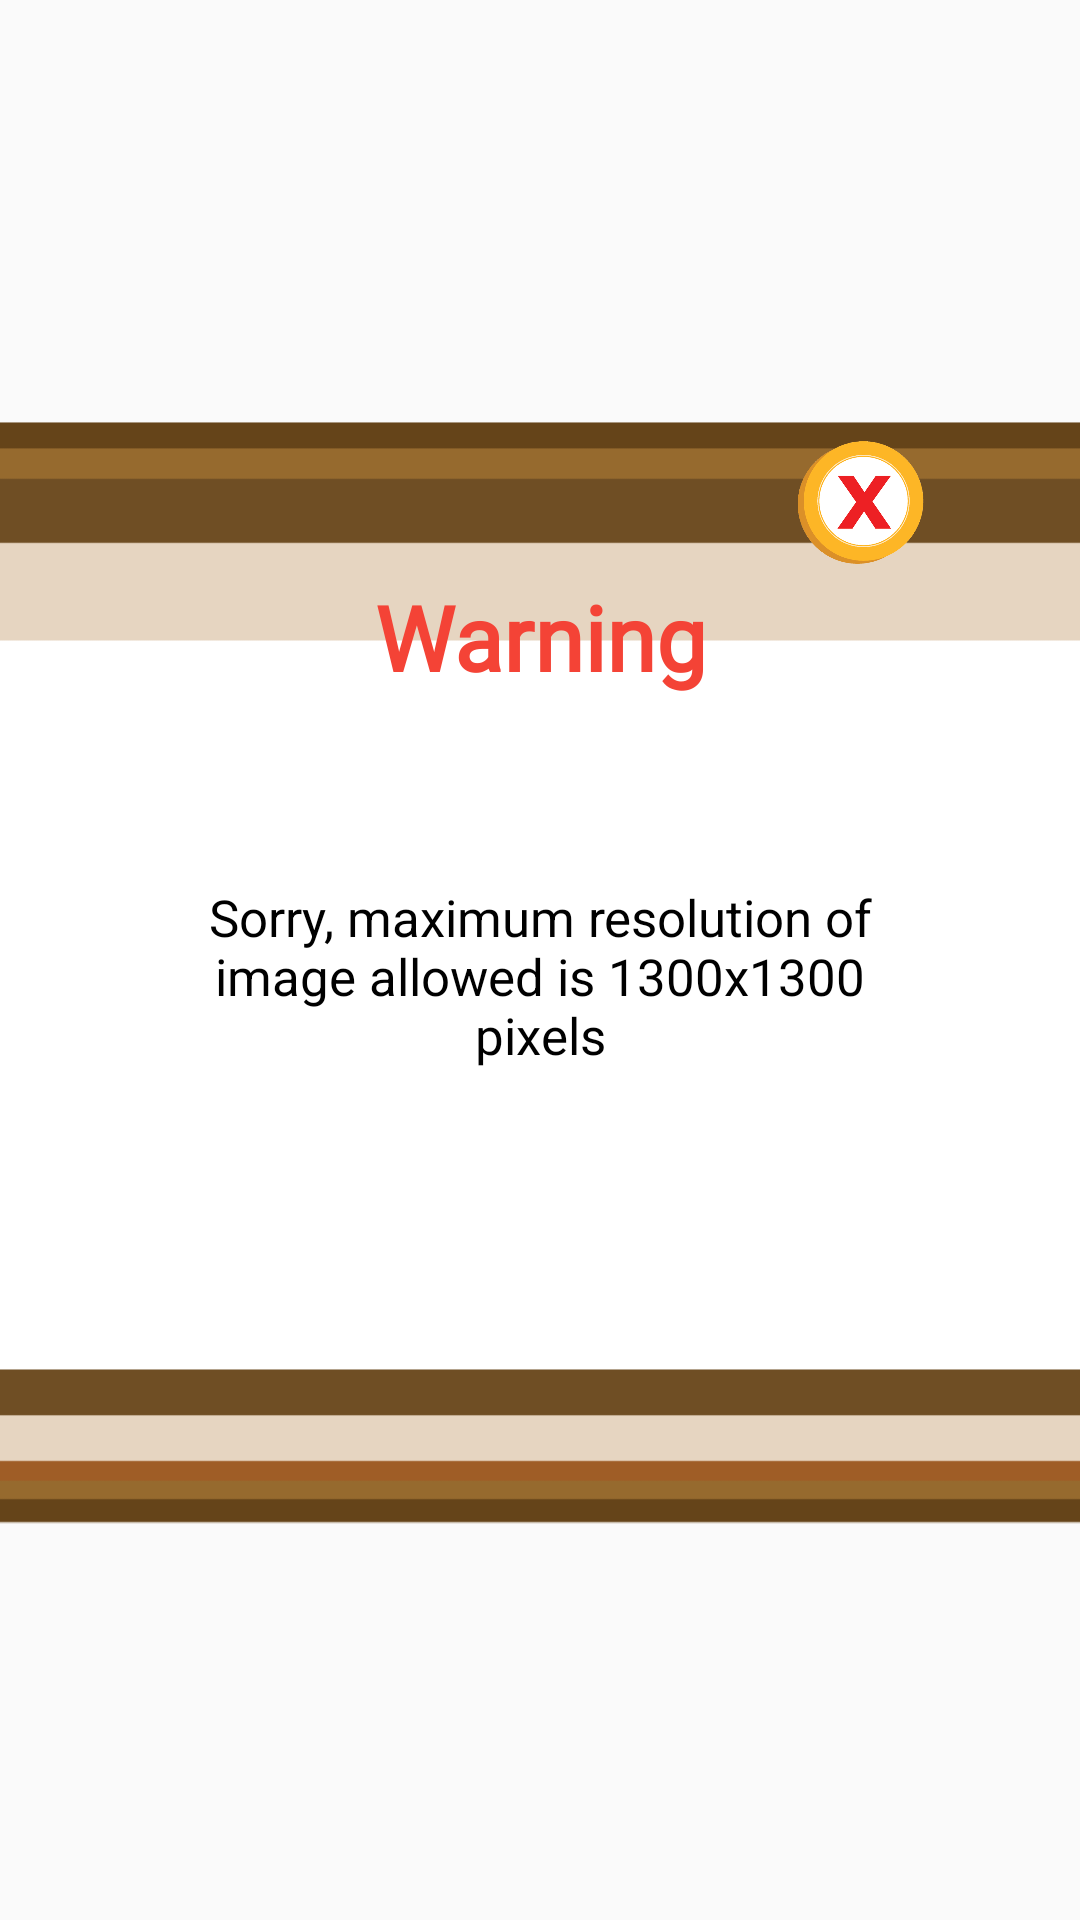

Where to tap for icons on this 1080x1920 app screen, as (x=x, y=y):
canclebtn: (x=861, y=501)
